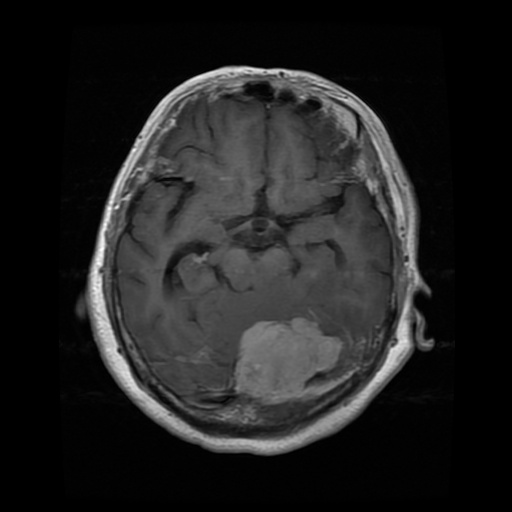meningioma: (235, 316, 342, 401)
